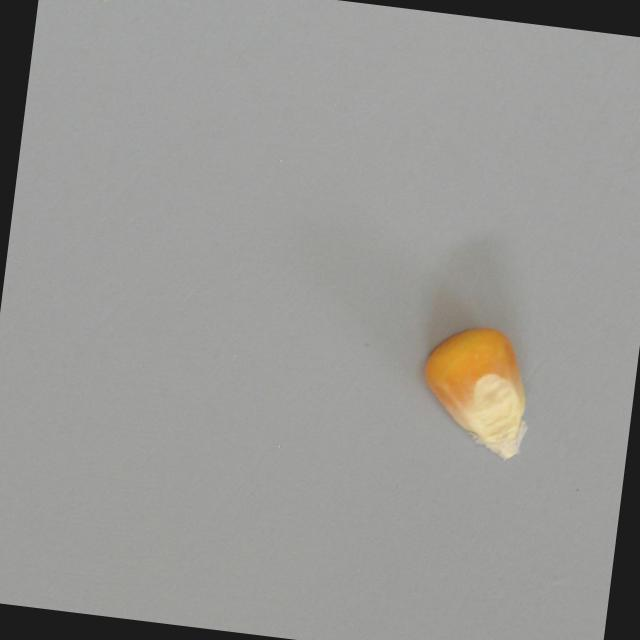entero: (402, 312, 556, 471)
